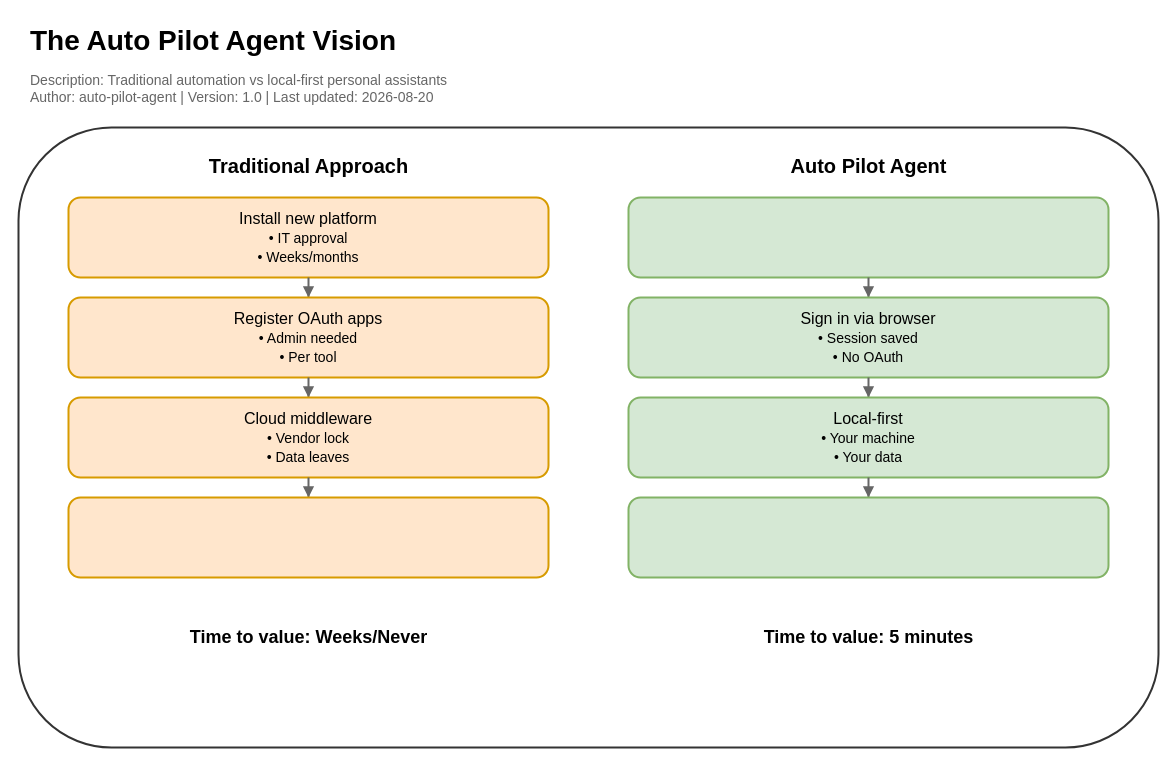
This 1176x765 diagram has some shape labels left out. Each missing label, with the centre of its shape:
Read+Write+Act • Find info • Agent acts: point 868,537
Read-only • Find info • You act: point 308,537
Use your coding agent • Already have • Works today: point 868,237
